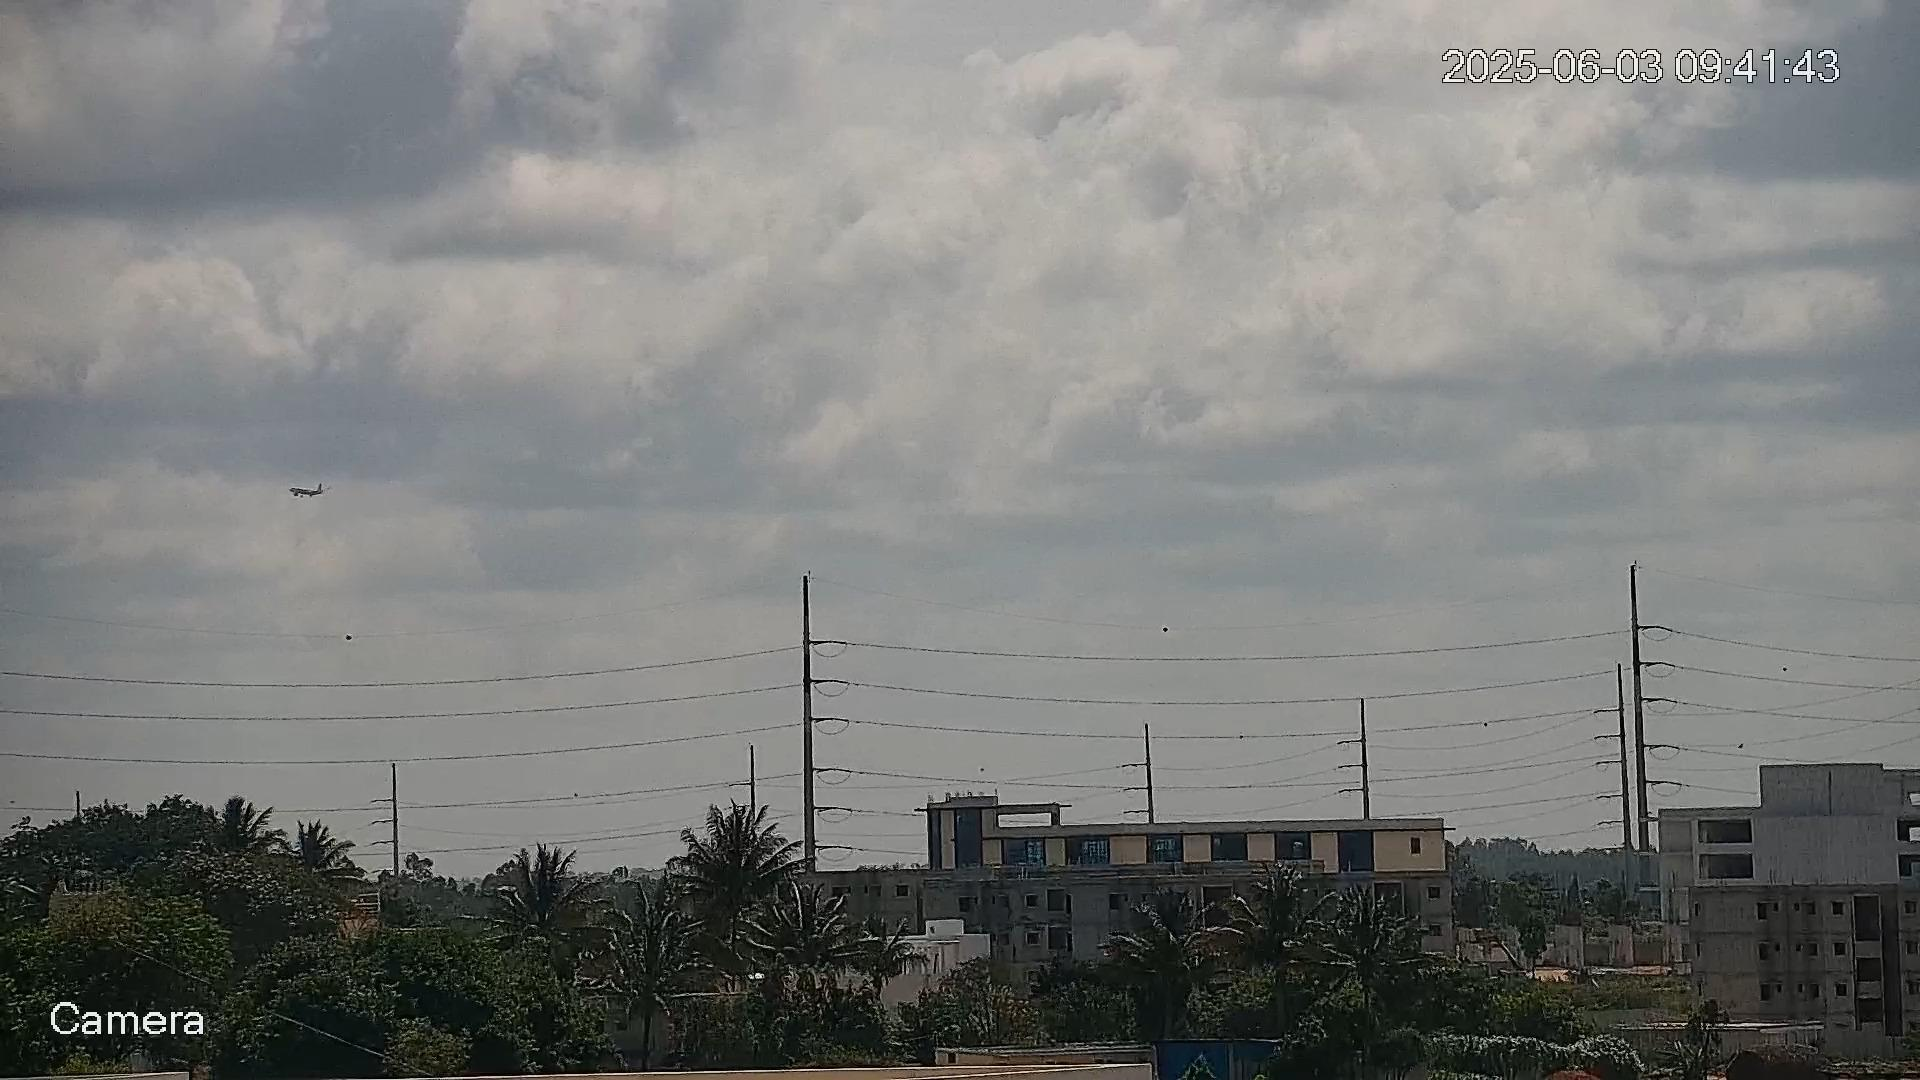Aircraft: (289, 481, 330, 498)
